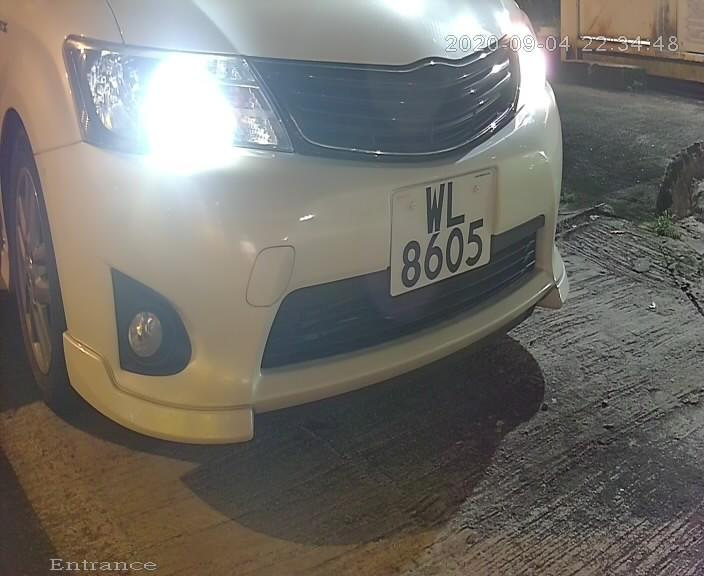License Plate: (384, 163, 494, 309)
